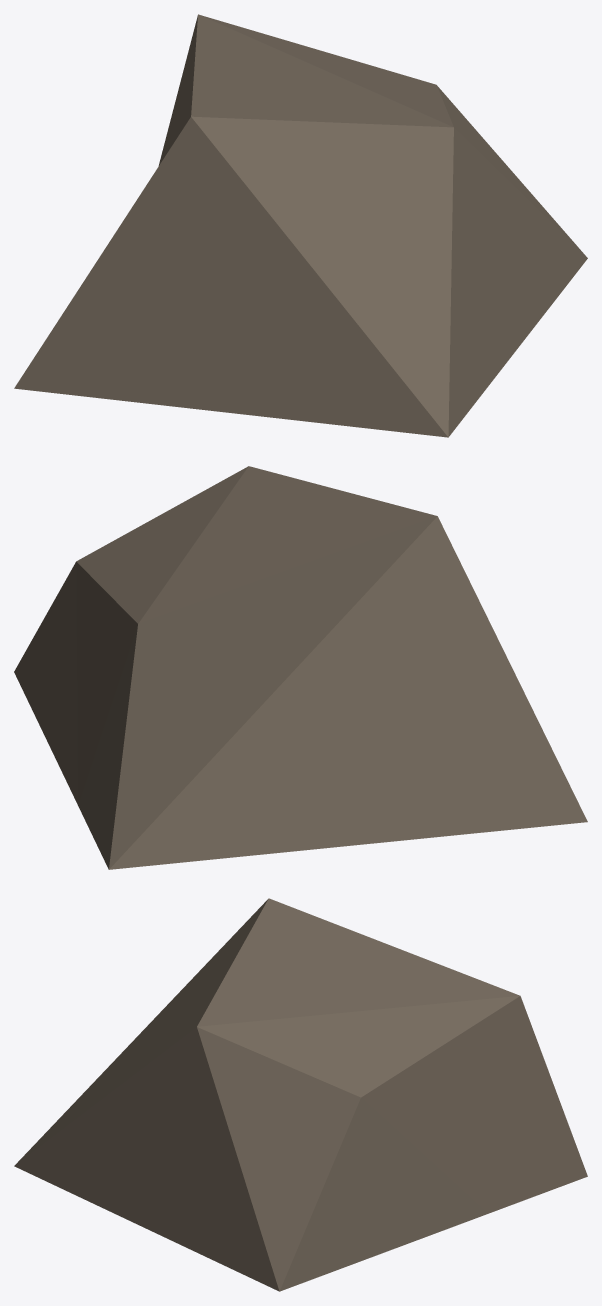
File: ston1.FBX
3 views of the same model, one above another, from view 1: azimuth 30°, elevation 25°; view 2: azimuth 150°, elevation 25°; view 3: azimuth 270°, elevation 25° (orthographic). The views are drawn at different scales.
Parts seen in each view (by area): view 1: Object002; view 2: Object002; view 3: Object002.
Part boxes in pixels (left/top/right/bottom): Object002: left=14, top=14, right=587, bottom=437; Object002: left=14, top=466, right=587, bottom=869; Object002: left=14, top=898, right=587, bottom=1291.
Bounding box in the file's own units: 95.48 × 39.53 × 94.32.
